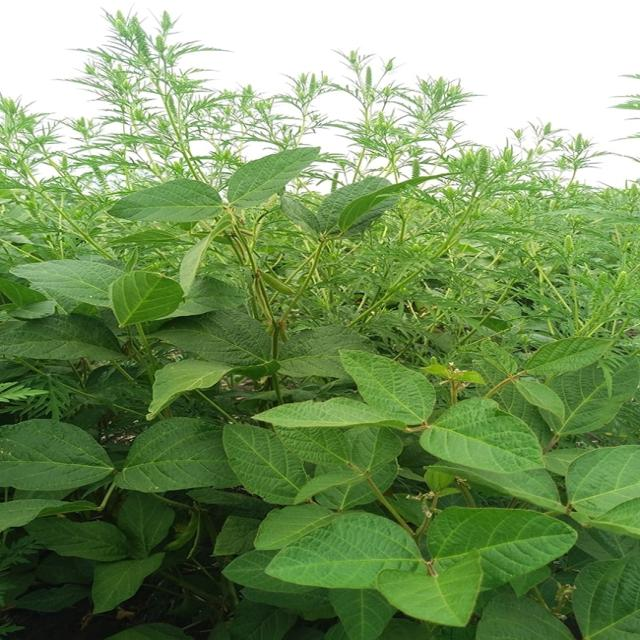ambrosia: (291, 40, 623, 306), (76, 7, 266, 170)
